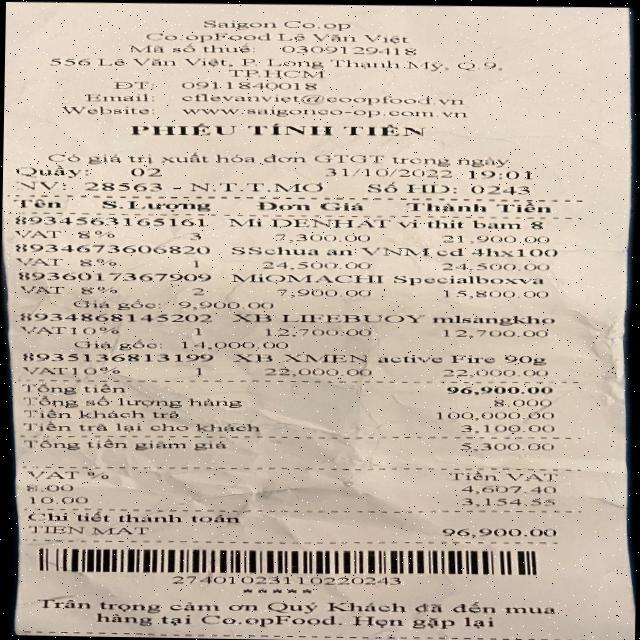Date: (309, 164, 464, 181)
Store_Name: (140, 12, 393, 34)
amount_number: (440, 382, 558, 397)
label_total: (21, 382, 132, 396)
